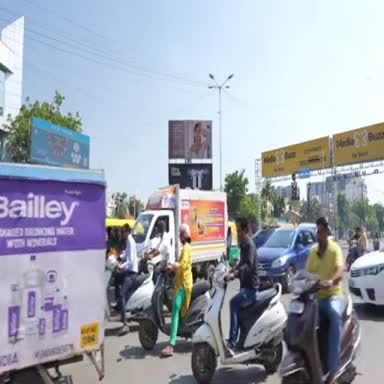Car: (258, 226, 316, 293), (348, 251, 383, 306), (252, 224, 294, 249), (252, 229, 275, 249), (298, 224, 316, 228)
